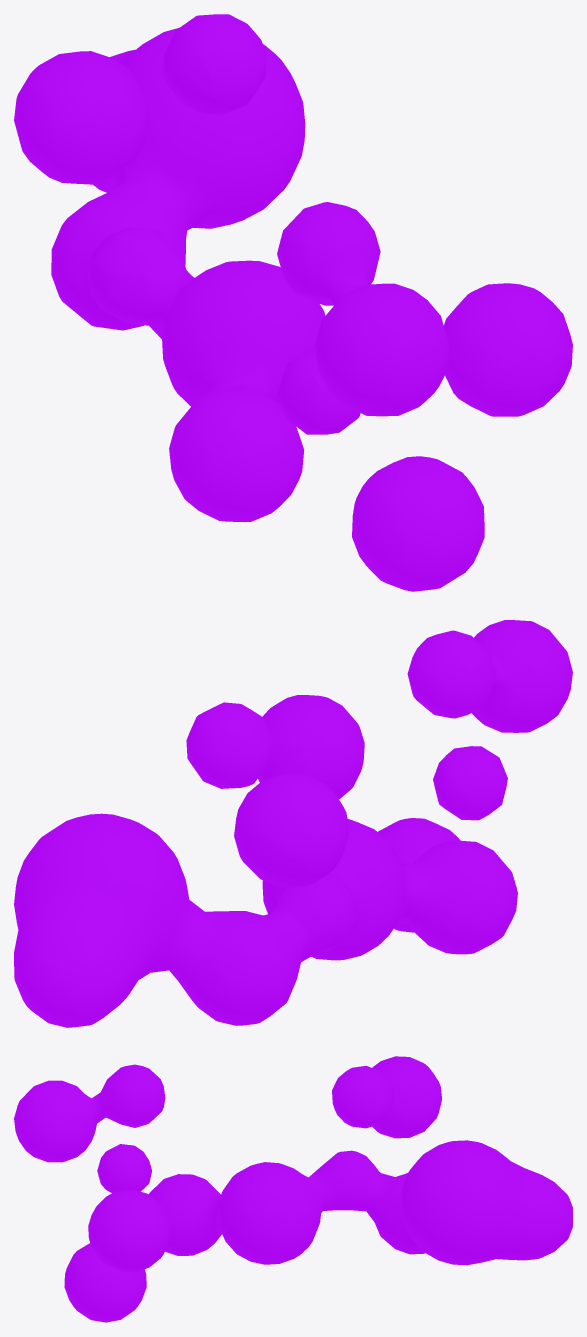
Rendered from Balls_Light.glb.
3 renders of one model, top to bottom at view 1: azimuth 30°, elevation 25°; view 2: azimuth 150°, elevation 25°; view 3: azimuth 270°, elevation 25°, orthographic. The views are drawn at different scales.
Parts seen in each view (by area): view 1: Mball.013; view 2: Mball.013; view 3: Mball.013.
Part boxes in pixels (bbox=[...]): Mball.013: bbox=[14, 14, 572, 591]; Mball.013: bbox=[14, 620, 572, 1027]; Mball.013: bbox=[14, 1056, 572, 1322].
Size of what is drawn, in the model's own units: 10 by 11.56 by 23.19.
